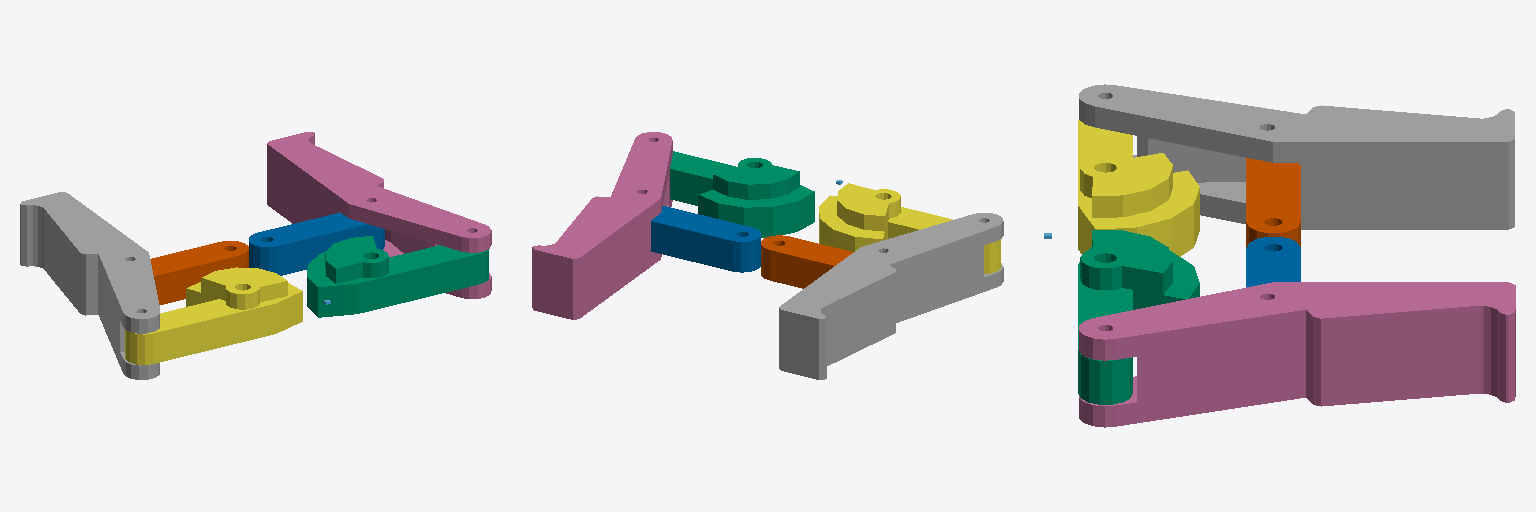
URDF robot description (gripper):
<?xml version="1.0" ?>
<!-- =================================================================================== -->
<!-- |    This document was autogenerated by xacro from gripper.xacro                  | -->
<!-- |    EDITING THIS FILE BY HAND IS NOT RECOMMENDED                                 | -->
<!-- =================================================================================== -->
<robot name="gripper">
  <link name="palm">
    <visual>
      <geometry>
        <mesh filename="package://yara_meshes/files/palm.obj"/>
      </geometry>
    </visual>
    <collision>
      <geometry>
        <mesh filename="package://yara_meshes/files/palm.obj"/>
      </geometry>
    </collision>
  </link>
  <link name="servo_gear">
    <visual>
      <geometry>
        <box size="0.001 0.001 0.0005"/>
      </geometry>
    </visual>
  </link>
  <joint name="palm_to_servo_gear" type="revolute">
    <axis xyz="0 0 1"/>
    <limit effort="1000.0" lower="-1.5707963267948966" upper="1.5707963267948966" velocity="0.5"/>
    <parent link="palm"/>
    <child link="servo_gear"/>
    <origin rpy="0 0 0" xyz="0 0.0125 0.005"/>
  </joint>
  <link name="right_gear">
    <visual>
      <geometry>
        <mesh filename="package://yara_meshes/files/right_gear.obj"/>
      </geometry>
    </visual>
    <collision>
      <geometry>
        <mesh filename="package://yara_meshes/files/right_gear.obj"/>
      </geometry>
    </collision>
  </link>
  <joint name="palm_to_right_gear" type="revolute">
    <axis xyz="0 0 1"/>
    <limit effort="1000.0" lower="-1.5707963267948966" upper="1.5707963267948966" velocity="0.5"/>
    <parent link="palm"/>
    <child link="right_gear"/>
    <origin rpy="0 0 0" xyz="0.014 0.02 0.002"/>
    <mimic joint="palm_to_servo_gear" multiplier="1"/>
  </joint>
  <link name="left_gear">
    <visual>
      <geometry>
        <mesh filename="package://yara_meshes/files/left_gear.obj"/>
      </geometry>
    </visual>
    <collision>
      <geometry>
        <mesh filename="package://yara_meshes/files/left_gear.obj"/>
      </geometry>
    </collision>
  </link>
  <joint name="palm_to_left_gear" type="revolute">
    <axis xyz="0 0 1"/>
    <limit effort="1000.0" lower="-1.5707963267948966" upper="1.5707963267948966" velocity="0.5"/>
    <parent link="palm"/>
    <child link="left_gear"/>
    <origin rpy="0 0 0" xyz="-0.014 0.02 0.002"/>
    <mimic joint="palm_to_servo_gear" multiplier="-1"/>
  </joint>
  <link name="right_hinge">
    <visual>
      <geometry>
        <mesh filename="package://yara_meshes/files/right_hinge.obj"/>
      </geometry>
    </visual>
    <collision>
      <geometry>
        <mesh filename="package://yara_meshes/files/right_hinge.obj"/>
      </geometry>
    </collision>
  </link>
  <joint name="palm_to_right_hinge" type="revolute">
    <axis xyz="0 0 1"/>
    <limit effort="1000.0" lower="-1.5707963267948966" upper="1.5707963267948966" velocity="0.5"/>
    <parent link="palm"/>
    <child link="right_hinge"/>
    <origin rpy="0 0 0" xyz="0.004 0.042 0.002"/>
    <mimic joint="palm_to_right_gear" multiplier="1"/>
  </joint>
  <link name="left_hinge">
    <visual>
      <geometry>
        <mesh filename="package://yara_meshes/files/left_hinge.obj"/>
      </geometry>
    </visual>
    <collision>
      <geometry>
        <mesh filename="package://yara_meshes/files/left_hinge.obj"/>
      </geometry>
    </collision>
  </link>
  <joint name="palm_to_left_hinge" type="revolute">
    <axis xyz="0 0 1"/>
    <limit effort="1000.0" lower="-1.5707963267948966" upper="1.5707963267948966" velocity="0.5"/>
    <parent link="palm"/>
    <child link="left_hinge"/>
    <origin rpy="0 0 0" xyz="-0.004 0.042 0.002"/>
    <mimic joint="palm_to_left_gear" multiplier="1"/>
  </joint>
  <link name="right_finger">
    <visual>
      <geometry>
        <mesh filename="package://yara_meshes/files/right_finger.obj"/>
      </geometry>
    </visual>
    <collision>
      <geometry>
        <mesh filename="package://yara_meshes/files/right_finger.obj"/>
      </geometry>
    </collision>
  </link>
  <joint name="right_gear_to_right_finger" type="revolute">
    <axis xyz="0 0 1"/>
    <limit effort="1000.0" lower="-1.5707963267948966" upper="1.5707963267948966" velocity="0.5"/>
    <parent link="right_gear"/>
    <child link="right_finger"/>
    <origin rpy="0 0 0" xyz="0.022 0 0"/>
    <mimic joint="palm_to_right_gear" multiplier="-1"/>
  </joint>
  <link name="left_finger">
    <visual>
      <geometry>
        <mesh filename="package://yara_meshes/files/left_finger.obj"/>
      </geometry>
    </visual>
    <collision>
      <geometry>
        <mesh filename="package://yara_meshes/files/left_finger.obj"/>
      </geometry>
    </collision>
  </link>
  <joint name="left_gear_to_left_finger" type="revolute">
    <axis xyz="0 0 1"/>
    <limit effort="1000.0" lower="-1.5707963267948966" upper="1.5707963267948966" velocity="0.5"/>
    <parent link="left_gear"/>
    <child link="left_finger"/>
    <origin rpy="0 0 0" xyz="-0.022 0 0"/>
    <mimic joint="palm_to_left_gear" multiplier="-1"/>
  </joint>
</robot>

--- Facts derived from the render (not from the file) ---
The picture shows the robot from 3 angles, left to right: view 1: azimuth 30°, elevation 25°; view 2: azimuth 150°, elevation 25°; view 3: azimuth 270°, elevation 25°; orthographic projection.
Robot: gripper — 8 links, 7 joints (7 revolute); root link palm; default pose: every joint at zero.
Visible links, largest first — view 1: left_finger, right_finger, left_gear, right_gear, right_hinge, left_hinge; view 2: left_finger, right_finger, right_gear, left_gear, right_hinge, left_hinge; view 3: right_finger, left_finger, left_gear, right_gear, left_hinge, right_hinge.
Boxes of the visible links, x1,y1,x2,y2 form: left_finger: (20,192,159,379); right_finger: (267,132,491,298); left_gear: (125,267,302,364); right_gear: (307,236,488,317); right_hinge: (249,213,384,275); left_hinge: (150,241,248,304); left_finger: (779,213,1003,379); right_finger: (532,132,672,319); right_gear: (670,151,814,237); left_gear: (819,183,1000,273); right_hinge: (651,206,760,272); left_hinge: (761,235,853,288); right_finger: (1079,282,1515,427); left_finger: (1079,84,1514,229); left_gear: (1078,120,1199,256); right_gear: (1078,230,1199,404); left_hinge: (1246,158,1300,247); right_hinge: (1246,237,1300,287).
Bounding box of the posed robot: 0.0791 × 0.0617 × 0.0127 m (x, y, z).
6 mesh visuals loaded from 7 distinct referenced files (6 OBJ); not drawn: 1 (reference not matched to a file when rendering).
